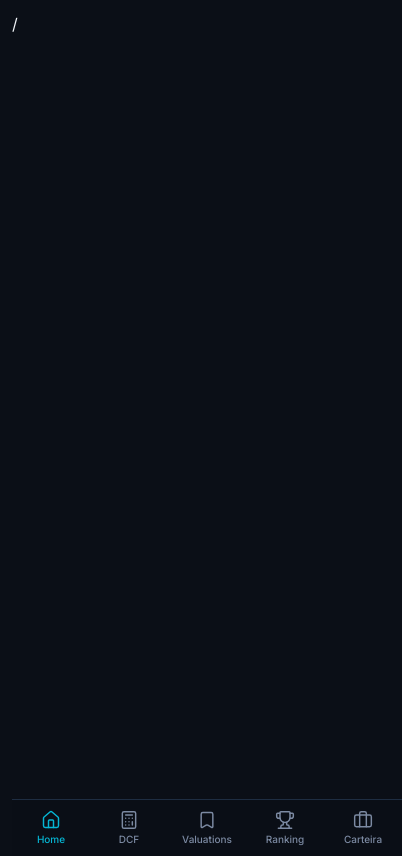
Test case: BottomNav › fecha o popover e navega ao escolher FIIs
The width and height of the screenshot is (402, 856).
What coordinates should you click on to do the following:
click the button "Ranking"
I would click on:
 (285, 828)
Its box is [246,800,324,855].
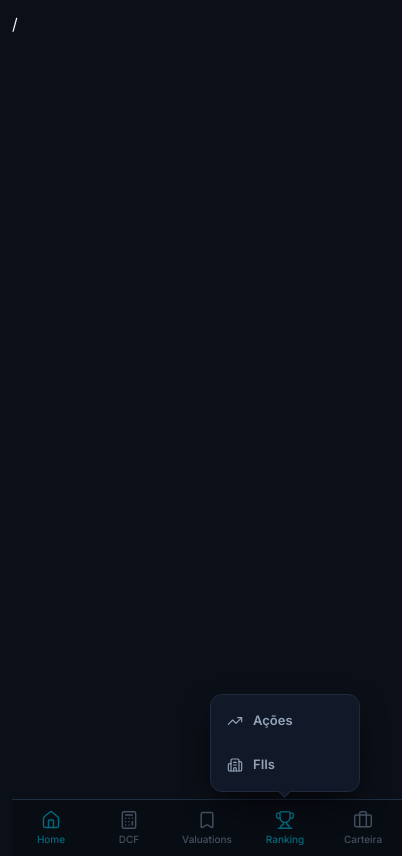
What coordinates should you click on to do the following:
click the link "FIIs"
I would click on:
 (251, 765)
Its box is [227,756,275,773].
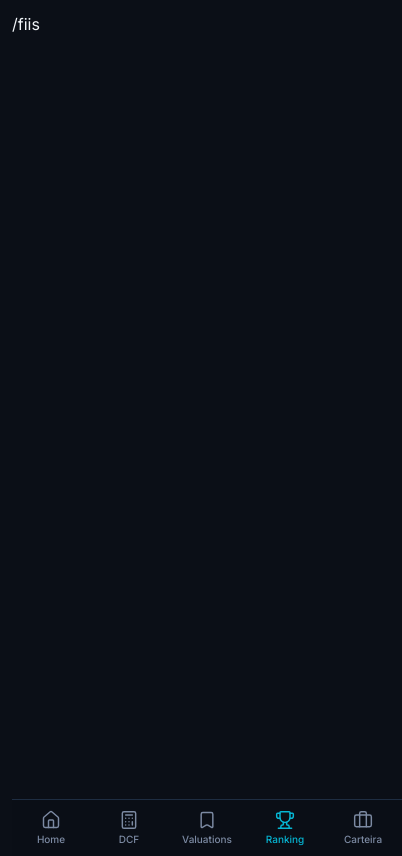
expect the text with test id "location-pathname" reads "/fiis": met, box [12,14,40,34]
